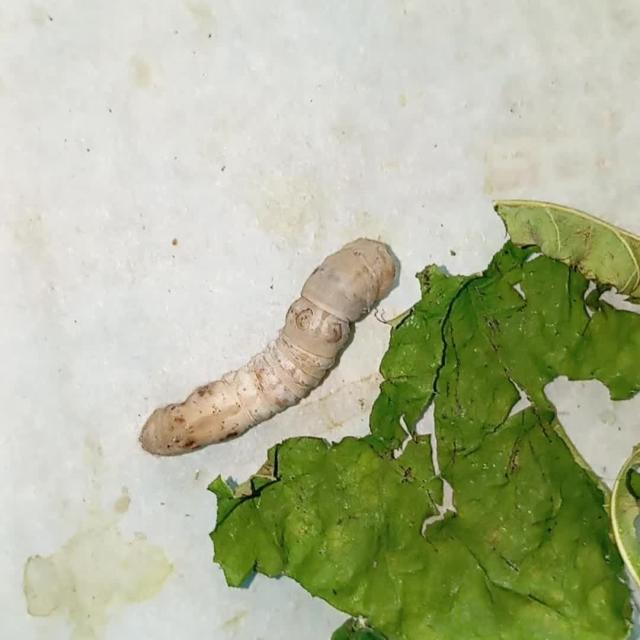Grasserie: (113, 203, 410, 504)
